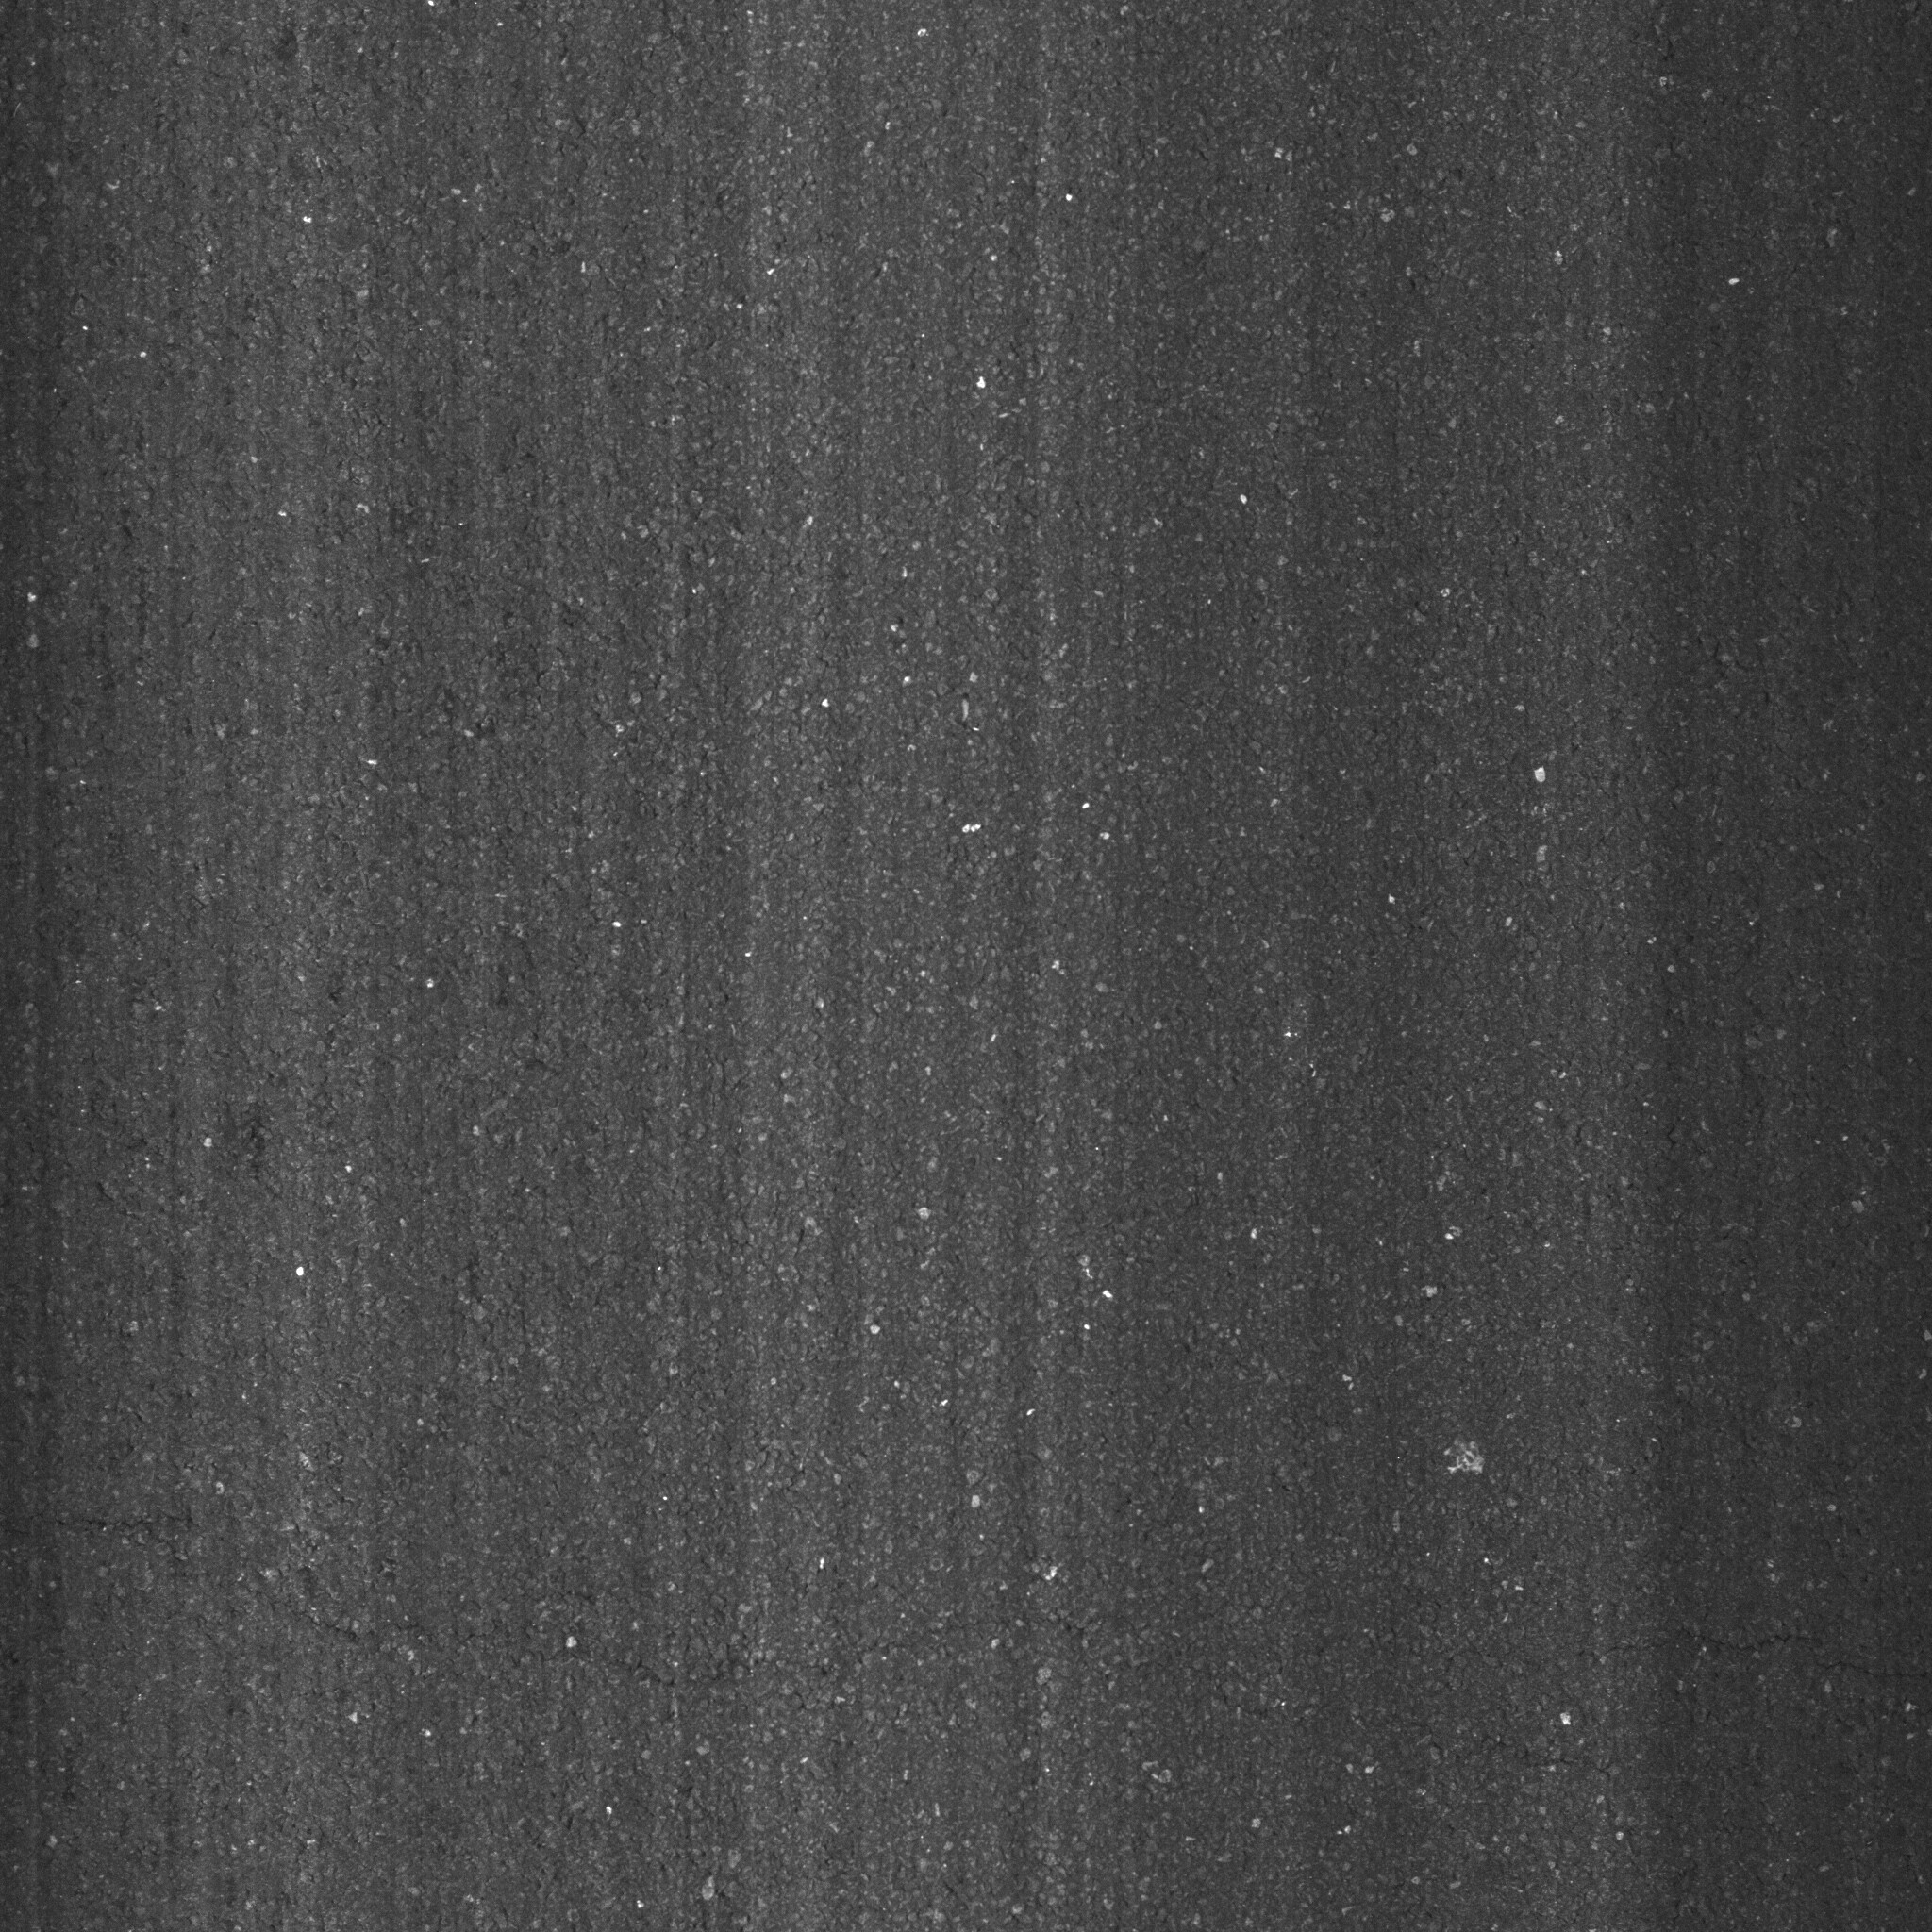transeverse: (129, 1504, 904, 1698)
